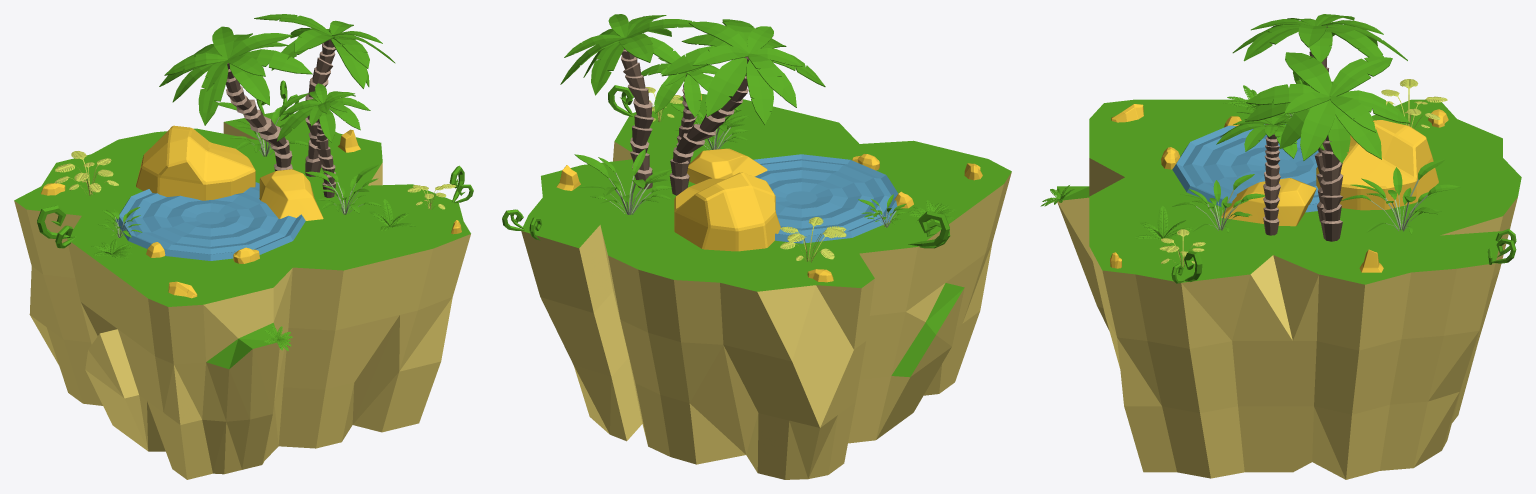
Rendered from Island_7.glb.
3 views of the same model, side by side, from view 1: azimuth 30°, elevation 25°; view 2: azimuth 150°, elevation 25°; view 3: azimuth 270°, elevation 25° (orthographic). The views are drawn at different scales.
Visible parts, largest first — view 1: Island_7_Base, Island_7, Island_7_Lake; view 2: Island_7_Base, Island_7, Island_7_Lake; view 3: Island_7_Base, Island_7, Island_7_Lake.
Part boxes in pixels (x1=…): Island_7_Base: x1=14, y1=110, x2=470, y2=479; Island_7: x1=37, y1=14, x2=473, y2=350; Island_7_Lake: x1=115, y1=182, x2=305, y2=260; Island_7_Base: x1=521, y1=94, x2=1011, y2=479; Island_7: x1=502, y1=14, x2=982, y2=282; Island_7_Lake: x1=753, y1=154, x2=897, y2=243; Island_7_Base: x1=1057, y1=99, x2=1521, y2=479; Island_7: x1=1040, y1=14, x2=1516, y2=283; Island_7_Lake: x1=1172, y1=124, x2=1319, y2=212.
Bounding box in the file's own units: 23.69 × 21.19 × 23.27.
1 material, 1 textured.
